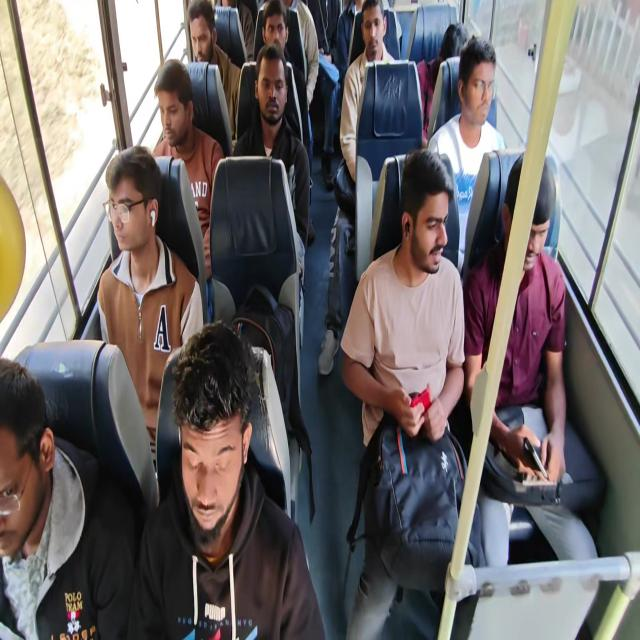person: (339, 148, 485, 638), (128, 320, 326, 638), (463, 152, 601, 565), (0, 356, 136, 639), (96, 145, 204, 471), (318, 0, 397, 376), (232, 43, 311, 335), (151, 58, 225, 320), (426, 35, 506, 277), (254, 0, 313, 182), (186, 0, 241, 141), (416, 22, 468, 144), (335, 0, 365, 95), (215, 0, 257, 62), (306, 0, 341, 64)
